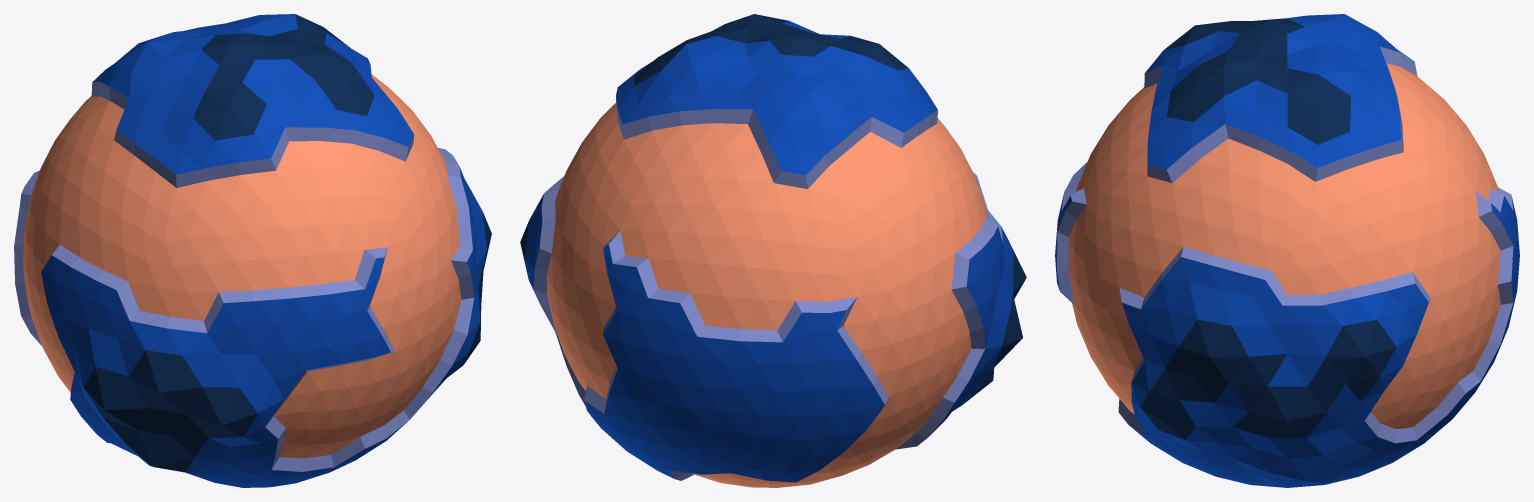
The model's file is TuruncuMaviGezegen.fbx.
3 renders of one model, left to right at view 1: azimuth 30°, elevation 25°; view 2: azimuth 150°, elevation 25°; view 3: azimuth 270°, elevation 25°, orthographic.
Parts seen in each view (by area): view 1: Icosphere; view 2: Icosphere; view 3: Icosphere.
Boxes of the visible parts, x1,y1,x2,y2 form: Icosphere: (14, 14, 491, 487); Icosphere: (520, 14, 1026, 487); Icosphere: (1055, 14, 1519, 487).
Size of the model in its own units: 214 by 214 by 210.
